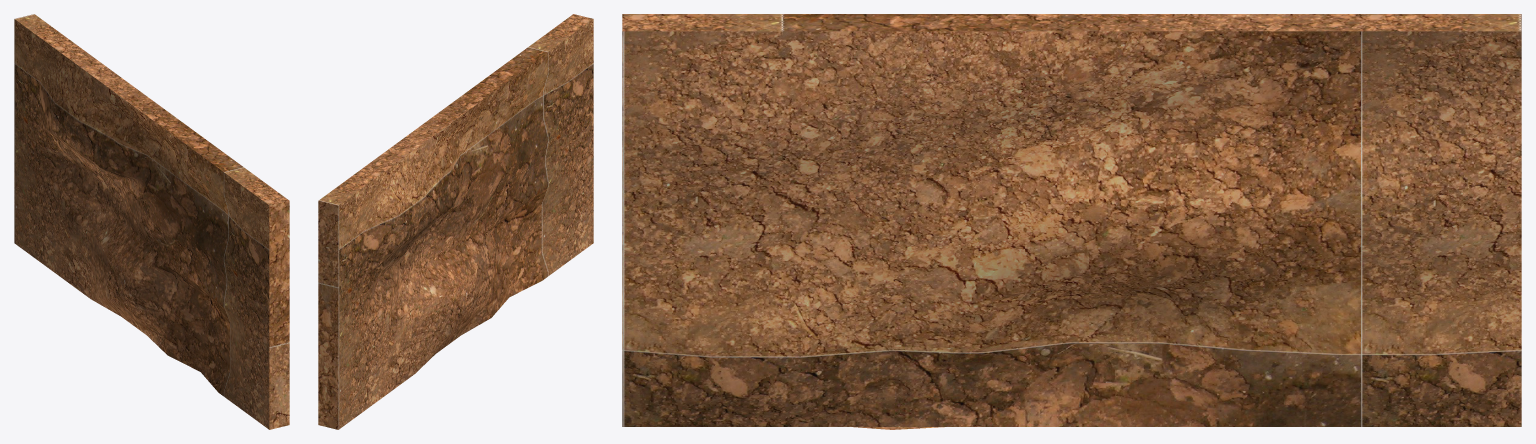
The model's file is wall2.fbx.
The picture shows the model from 3 angles, left to right: view 1: azimuth 30°, elevation 25°; view 2: azimuth 150°, elevation 25°; view 3: azimuth 270°, elevation 25°; orthographic projection. The views are drawn at different scales.
Parts seen in each view (by area): view 1: pCube1; view 2: pCube1; view 3: pCube1.
Part boxes in pixels (box(x1,y1,x2,y2)): pCube1: box(14, 14, 289, 429); pCube1: box(318, 14, 593, 429); pCube1: box(622, 14, 1521, 429).
Bounding box in the file's own units: 2.01 × 10.67 × 21.98.
1 material, 1 textured.
